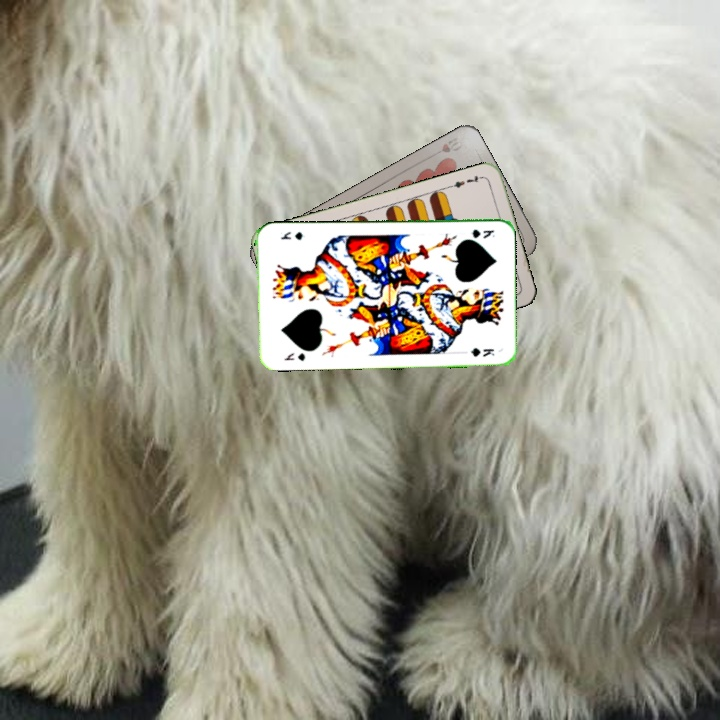E7: (446, 171, 486, 190)
GK: (466, 226, 497, 241), (280, 349, 308, 363)
H10: (438, 137, 466, 155)
